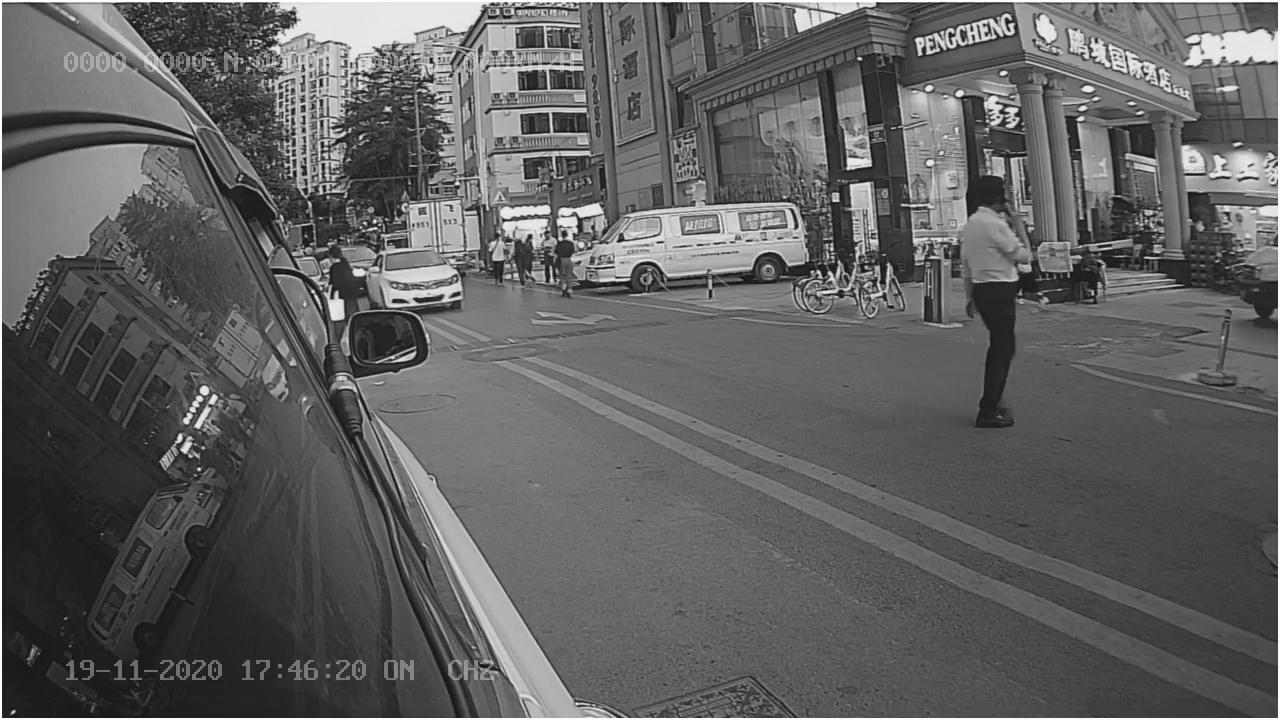person: (946, 176, 1034, 440)
